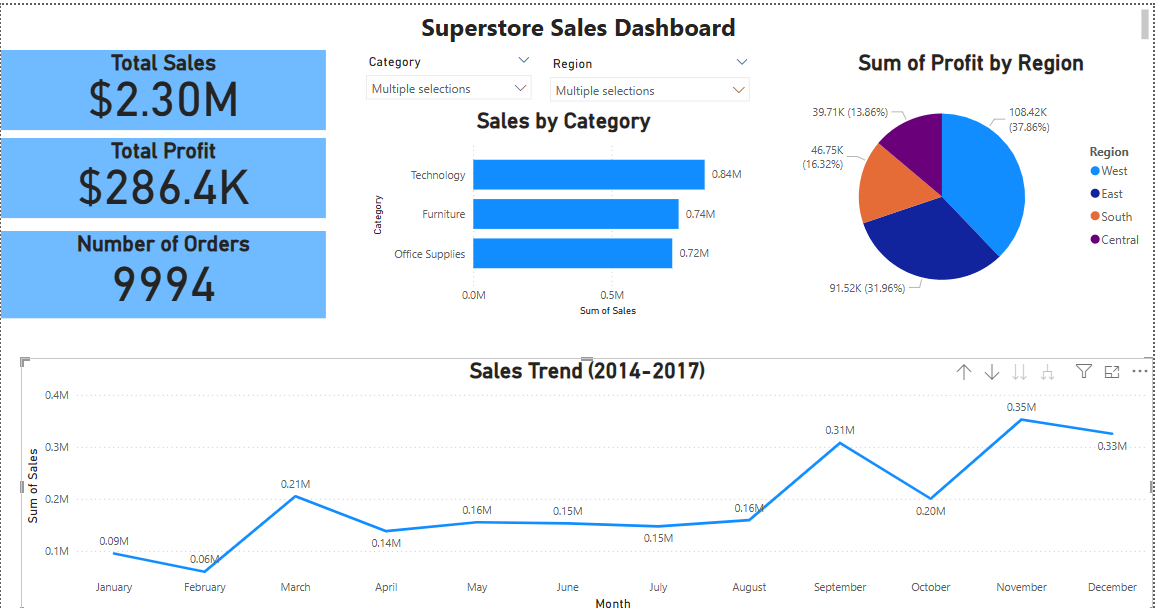

This screenshot's page, from the dashboard's own definition file:
{"tool":"powerbi","page":{"name":"Page 1","canvas":[1280,720],"ordinal":0},"visuals":[{"type":"textbox","box":[10.7,0,1269.3,52.1],"z":0},{"type":"card","title":"Total Sales","fields":{"Values":["Sum(SuperstoreOrders.Sales)"]},"box":[0,49.6,361.2,88.8],"z":1000},{"type":"card","title":"Total Profit","fields":{"Values":["Sum(SuperstoreOrders.Profit)"]},"box":[0,147.7,361.2,88.8],"z":2000},{"type":"card","title":"Number of Orders","fields":{"Values":["CountNonNull(SuperstoreOrders.Order ID)"]},"box":[0,251.5,361.2,96.9],"z":3000},{"type":"clusteredBarChart","title":"Sales by Category","fields":{"Category":["SuperstoreOrders.Category"],"Y":["Sum(SuperstoreOrders.Sales)"]},"box":[407.3,114.2,435,235.4],"z":4000},{"type":"pieChart","fields":{"Y":["Sum(SuperstoreOrders.Profit)"],"Category":["SuperstoreOrders.Region"]},"box":[876.9,49.6,402.7,298.8],"z":5000},{"type":"lineChart","title":"Sales Trend (2014-2017)","fields":{"Category":["SuperstoreOrders.Order Date.Variation.Date Hierarchy.Year","SuperstoreOrders.Order Date.Variation.Date Hierarchy.Month"],"Y":["Sum(SuperstoreOrders.Sales)"]},"box":[21.9,392.3,1257.7,286.2],"z":6000},{"type":"slicer","fields":{"Values":["SuperstoreOrders.Category"]},"box":[395.8,49.6,204.2,64.6],"z":7000},{"type":"slicer","fields":{"Values":["SuperstoreOrders.Region"]},"box":[600,51.9,242.3,62.3],"z":8000}]}

Visuals, with their boxes on the page's 1280x720 design canvas (x1, y1, x2, y2). These are canvas units, not pixel positions in the 1158x608 screenshot, which may show the page scaled, cropped or inside an application window:
textbox: 11:0:1280:52
"Total Sales" card: 0:50:361:138
"Total Profit" card: 0:148:361:236
"Number of Orders" card: 0:252:361:348
"Sales by Category" clusteredBarChart: 407:114:842:350
pieChart - Sum(SuperstoreOrders.Profit) x SuperstoreOrders.Region: 877:50:1280:348
"Sales Trend (2014-2017)" lineChart: 22:392:1280:678
slicer - SuperstoreOrders.Category: 396:50:600:114
slicer - SuperstoreOrders.Region: 600:52:842:114
